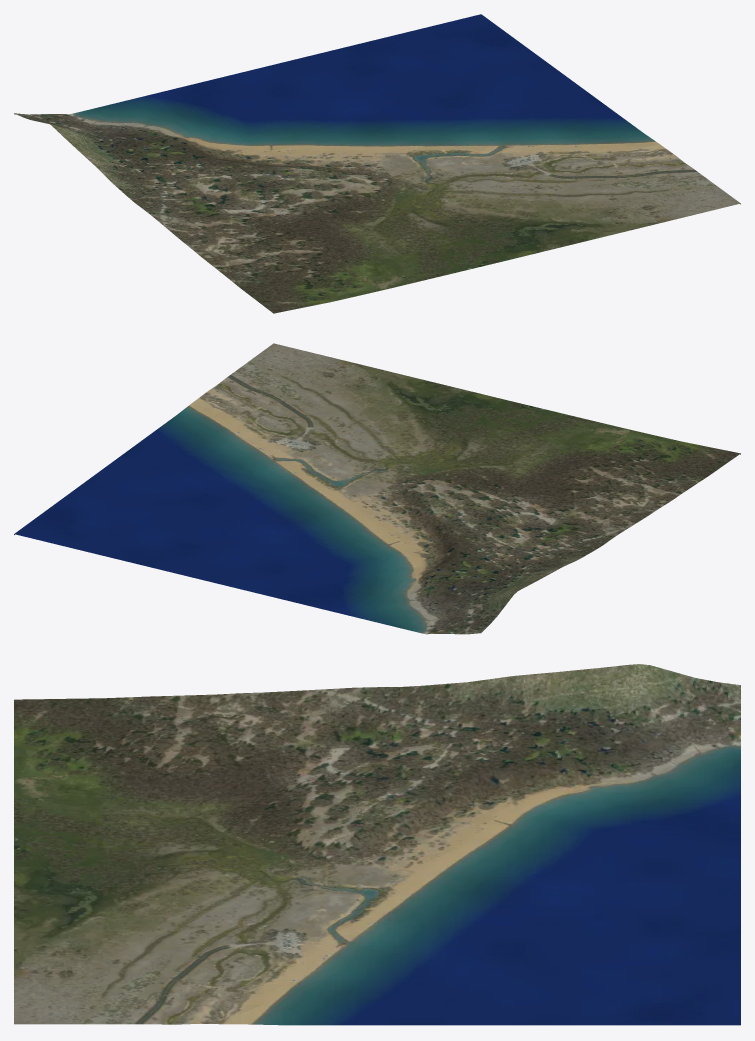
3 renders of one model, top to bottom at view 1: azimuth 30°, elevation 25°; view 2: azimuth 150°, elevation 25°; view 3: azimuth 270°, elevation 25°, orthographic. The views are drawn at different scales.
Bounding box in the file's own units: 1000 × 63.95 × 963.
1 material, 1 textured.
